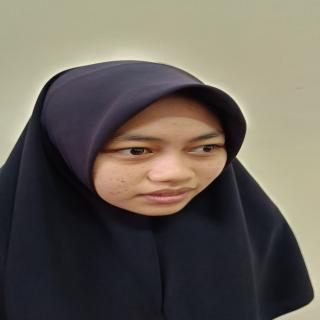Takut: (80, 85, 247, 221)
